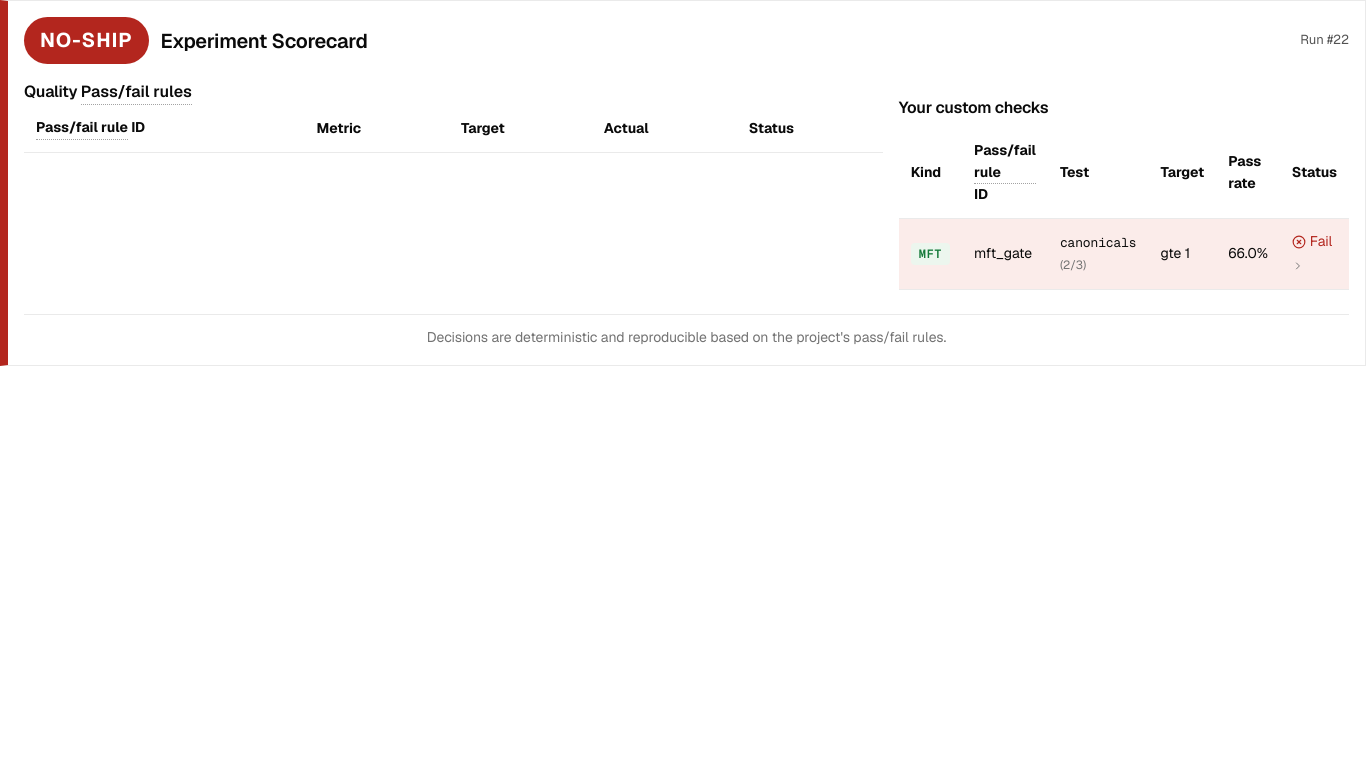
ScorecardPanel › renders MFT drill-down with input / expected / predicted columns
This screenshot has width=1366, height=768.
Expected: the heading "Your custom checks" is shown, top-left (899, 97), bottom-right (1048, 118)
Expected: the text "MFT" is shown, top-left (911, 243), bottom-right (950, 266)
Click the text "canonicals" at (1124, 254), box top-left (899, 219), bottom-right (1349, 290)
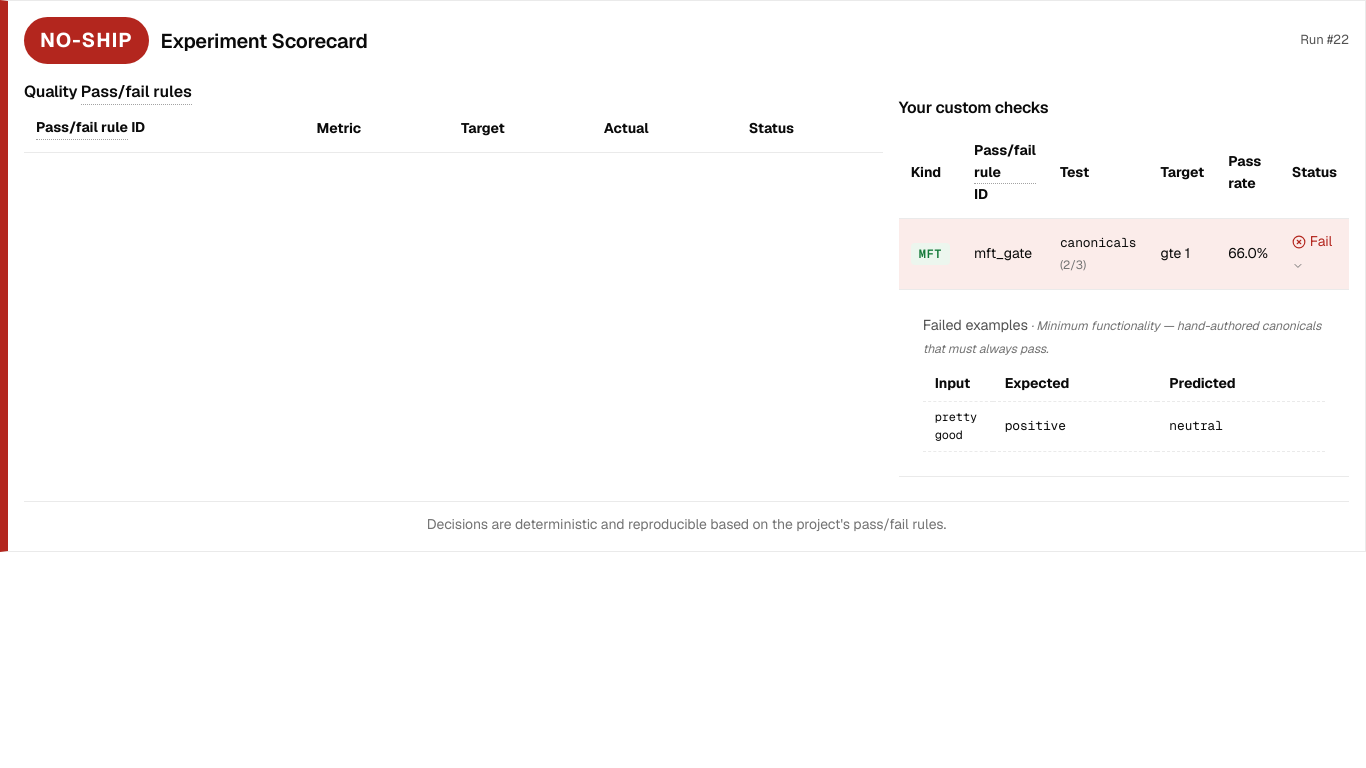
Expected: the text "pretty good" is shown, top-left (923, 401), bottom-right (993, 451)
Expected: the text "positive" is shown, top-left (1005, 417), bottom-right (1066, 434)
Expected: the text "neutral" is shown, top-left (1169, 417), bottom-right (1223, 434)
